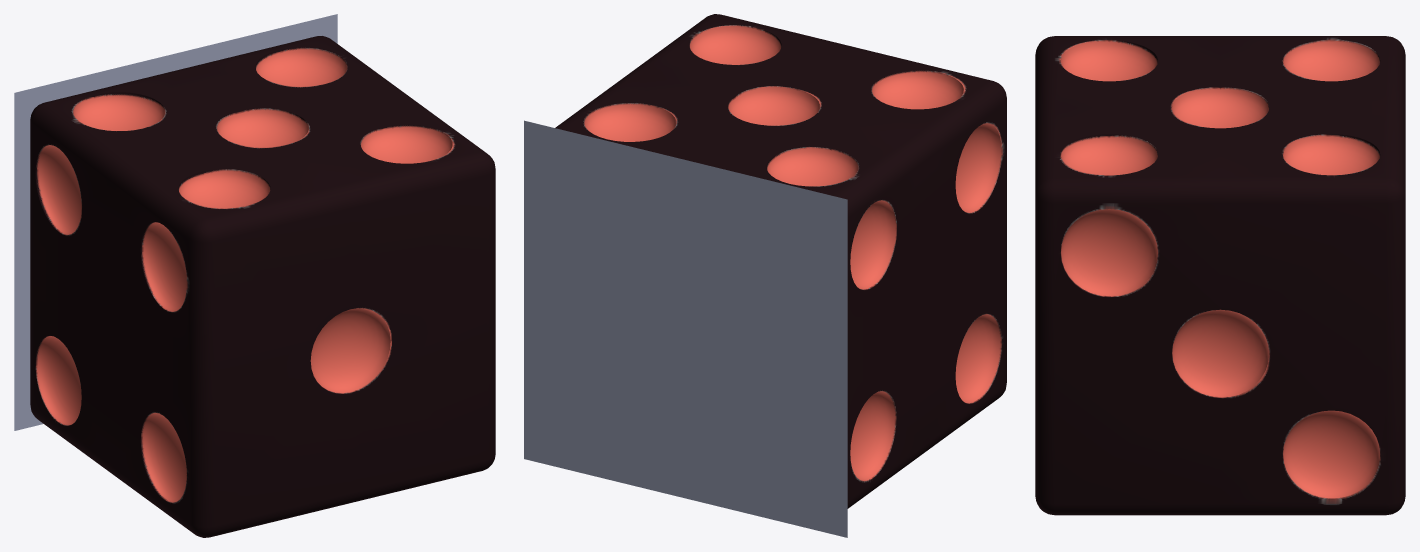
File: dice.glb
The picture shows the model from 3 angles, left to right: view 1: azimuth 30°, elevation 25°; view 2: azimuth 150°, elevation 25°; view 3: azimuth 270°, elevation 25°; orthographic projection. The views are drawn at different scales.
Visible parts, largest first — view 1: node_id5, mesh_id1; view 2: mesh_id1, node_id5; view 3: node_id5.
Boxes of the visible parts, left/top/right/bottom form: node_id5: left=30, top=36, right=495, bottom=537; mesh_id1: left=14, top=14, right=337, bottom=430; mesh_id1: left=524, top=120, right=847, bottom=537; node_id5: left=555, top=14, right=1006, bottom=508; node_id5: left=1035, top=36, right=1405, bottom=515.
Size of the model in its own units: 0.545 by 0.545 by 0.512.
Materials: 2 (2 with a texture image).
